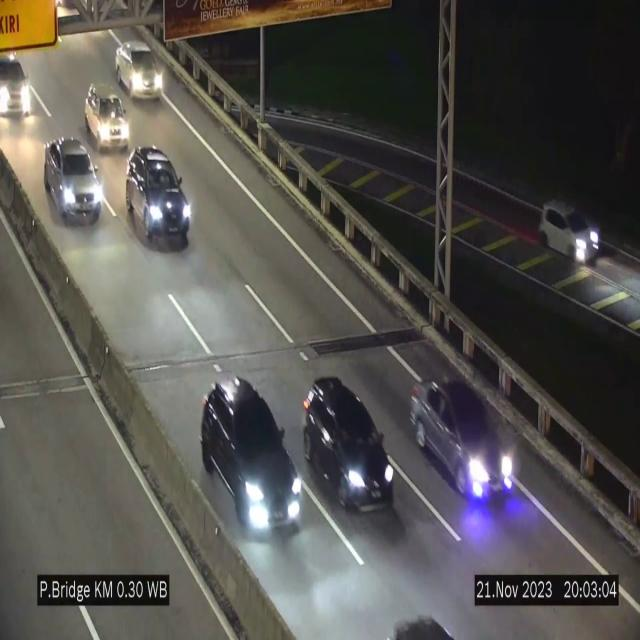Car: (199, 382, 299, 532), (410, 370, 516, 506), (302, 376, 395, 510), (128, 146, 190, 246), (45, 138, 103, 221), (82, 79, 131, 151), (115, 41, 162, 99)
